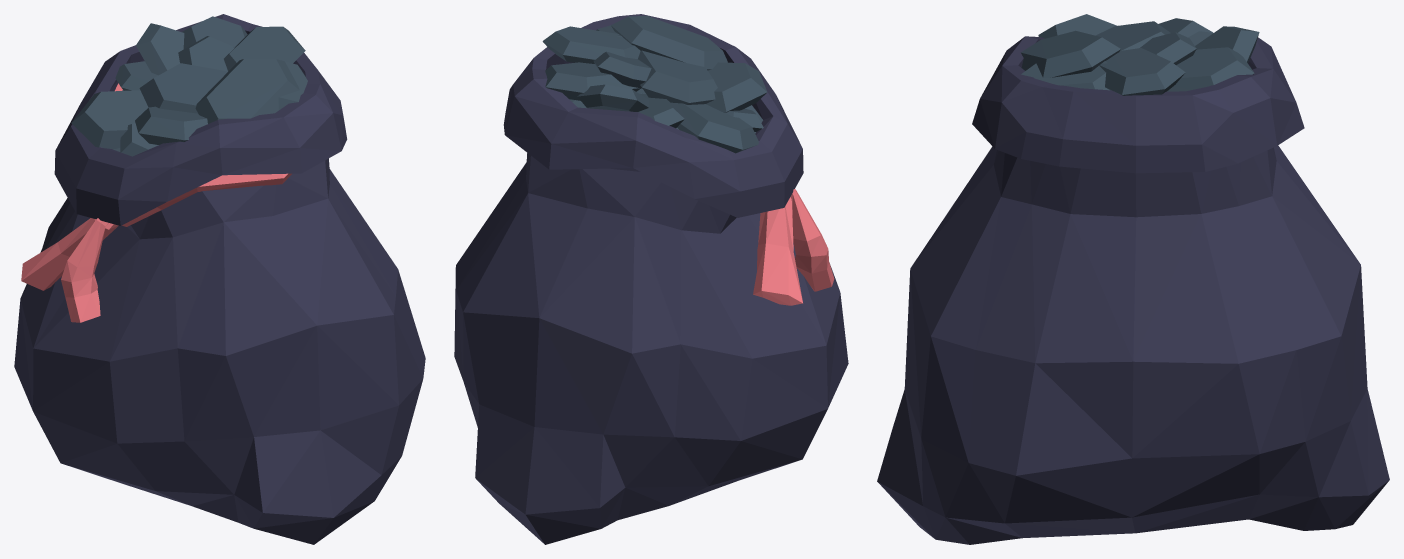
The model's file is SFFA_Rupee_Bag.fbx.
The picture shows the model from 3 angles, left to right: view 1: azimuth 30°, elevation 25°; view 2: azimuth 150°, elevation 25°; view 3: azimuth 270°, elevation 25°; orthographic projection. The views are drawn at different scales.
Visible parts, largest first — view 1: SFFA_Rupee_Bag; view 2: SFFA_Rupee_Bag; view 3: SFFA_Rupee_Bag.
Boxes of the visible parts, box(x1,y1,x2,y2) form: SFFA_Rupee_Bag: box(14, 14, 425, 544); SFFA_Rupee_Bag: box(454, 14, 848, 544); SFFA_Rupee_Bag: box(877, 14, 1389, 544).
Size of the model in its own units: 16.17 by 19.48 by 18.15.
